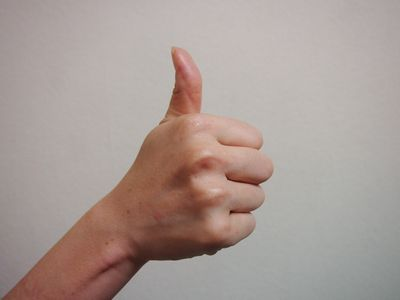hand: (131, 45, 274, 263)
